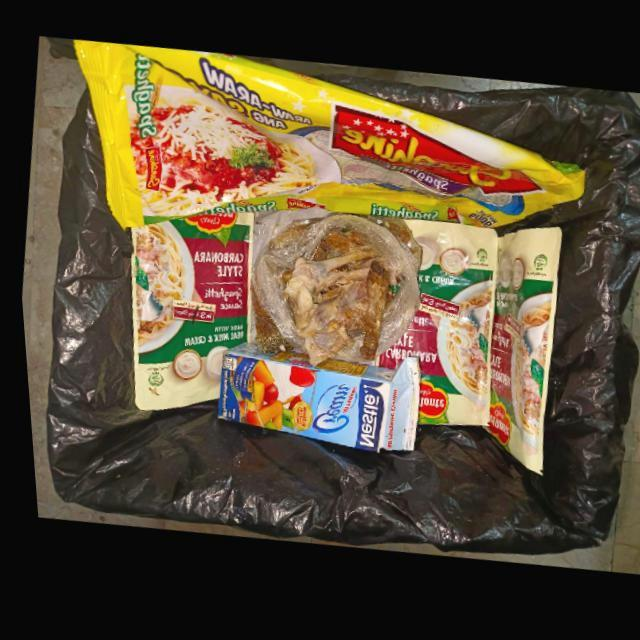food_wrapper: (74, 40, 582, 234), (372, 222, 494, 431), (126, 214, 251, 413), (483, 232, 558, 480)
left_over_food: (278, 234, 389, 369)
plastic_bag: (246, 210, 419, 369)
